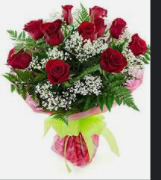RedRose: (41, 56, 74, 85), (99, 45, 128, 74), (5, 43, 35, 70), (22, 15, 48, 39), (111, 16, 128, 40)
